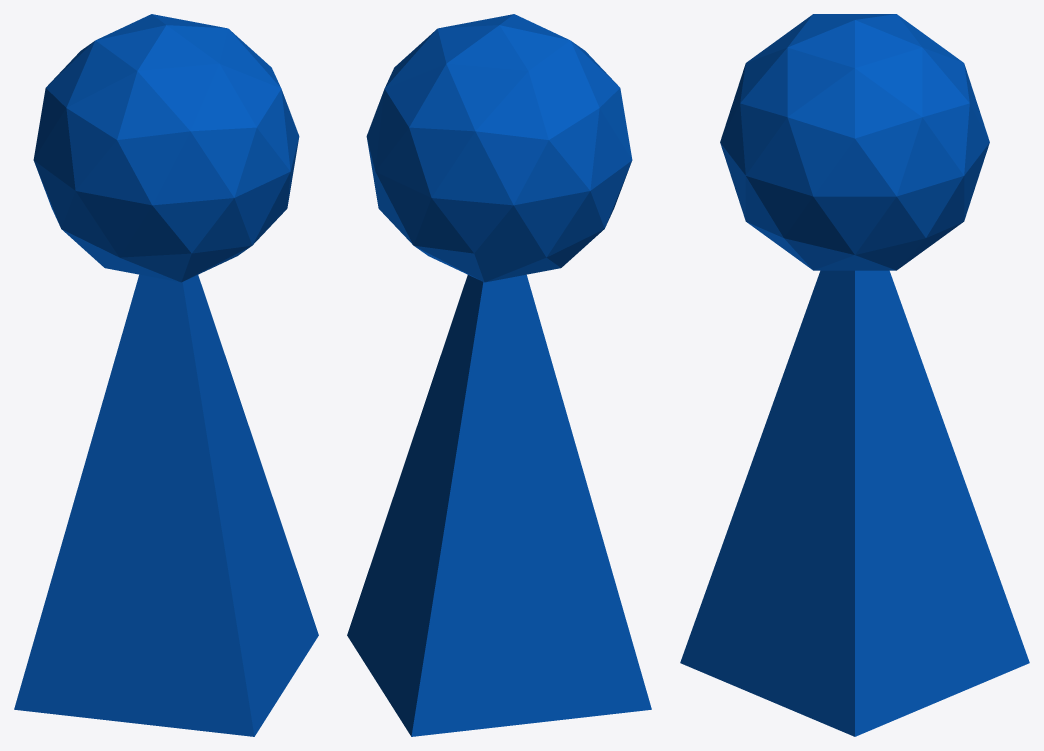
Rendered from player3.glb.
3 renders of one model, left to right at view 1: azimuth 30°, elevation 25°; view 2: azimuth 150°, elevation 25°; view 3: azimuth 270°, elevation 25°, orthographic.
Visible parts, largest first — view 1: Cone.002; view 2: Cone.002; view 3: Cone.002.
Boxes of the visible parts, box(x1,y1,x2,y2) form: Cone.002: box(14, 14, 318, 736); Cone.002: box(347, 14, 651, 736); Cone.002: box(680, 14, 1029, 736).
Size of the model in its own units: 1.11 by 2.26 by 1.11.
